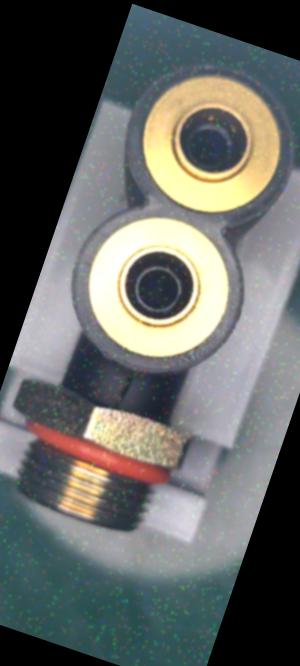craze: (104, 363, 148, 416)
